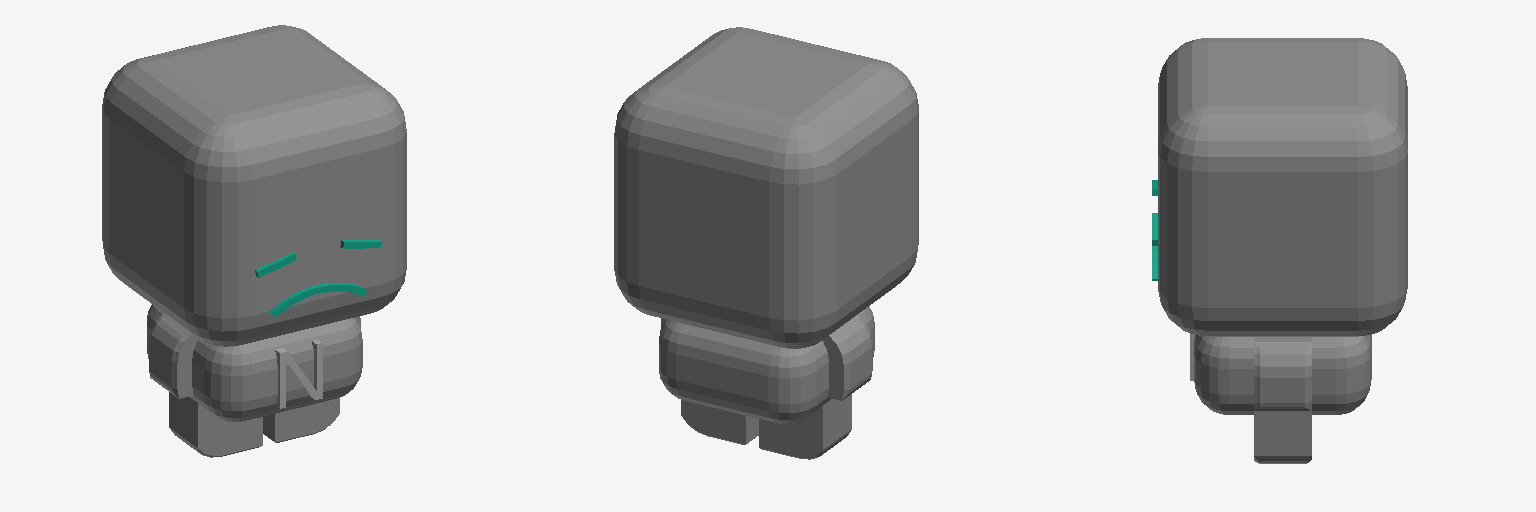
3 renders of one model, left to right at view 1: azimuth 30°, elevation 25°; view 2: azimuth 150°, elevation 25°; view 3: azimuth 270°, elevation 25°, orthographic.
Visible parts, largest first — view 1: Head_1, Body, Cap_1, Box004; view 2: Head_1, Body; view 3: Head_1, Body.
Part boxes in pixels (x1,y1,x2,y2): Head_1: (102,25,406,346); Body: (147,304,362,457); Cap_1: (280,343,322,408); Box004: (268,283,366,317); Head_1: (614,27,918,348); Body: (659,307,874,459); Head_1: (1158,38,1407,336); Body: (1194,334,1371,463).
Bounding box in the file's own units: 20 × 32.14 × 20.44.